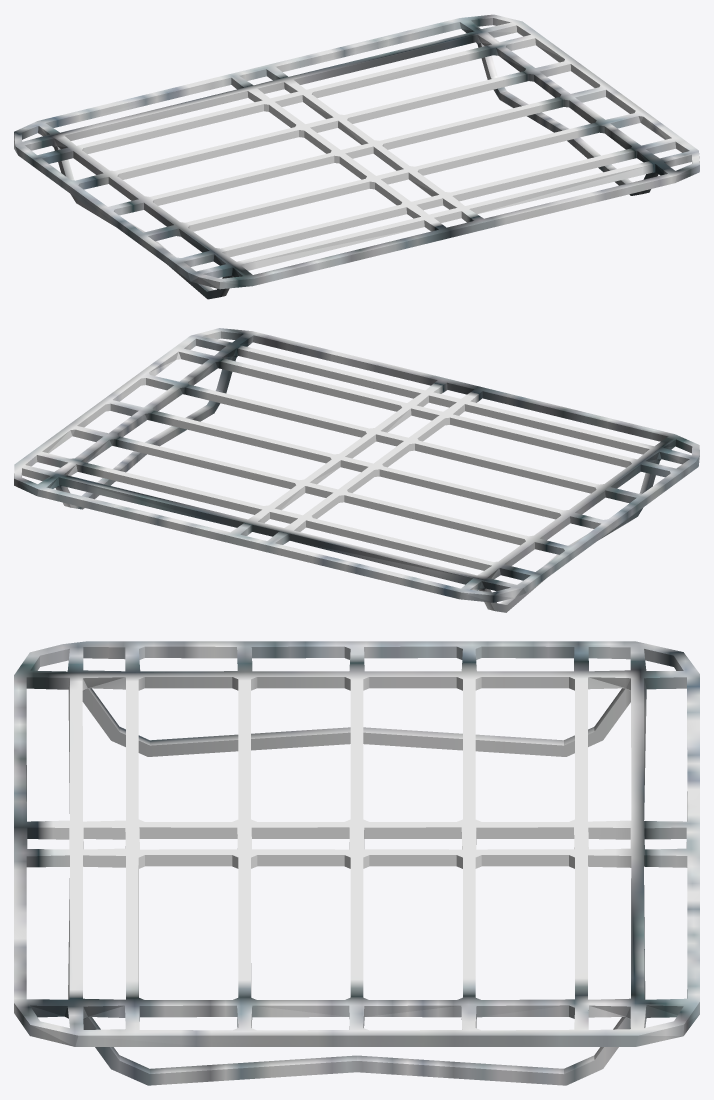
File: FridgeTray.fbx
3 views of the same model, one above another, from view 1: azimuth 30°, elevation 25°; view 2: azimuth 150°, elevation 25°; view 3: azimuth 270°, elevation 25° (orthographic). The views are drawn at different scales.
Visible parts, largest first — view 1: FridgeTray; view 2: FridgeTray; view 3: FridgeTray.
Boxes of the visible parts, x1=… form: FridgeTray: x1=14, y1=14, x2=699, y2=299; FridgeTray: x1=14, y1=328, x2=699, y2=612; FridgeTray: x1=14, y1=641, x2=699, y2=1085.
Bounding box in the file's own units: 67.24 × 6.38 × 49.42.
